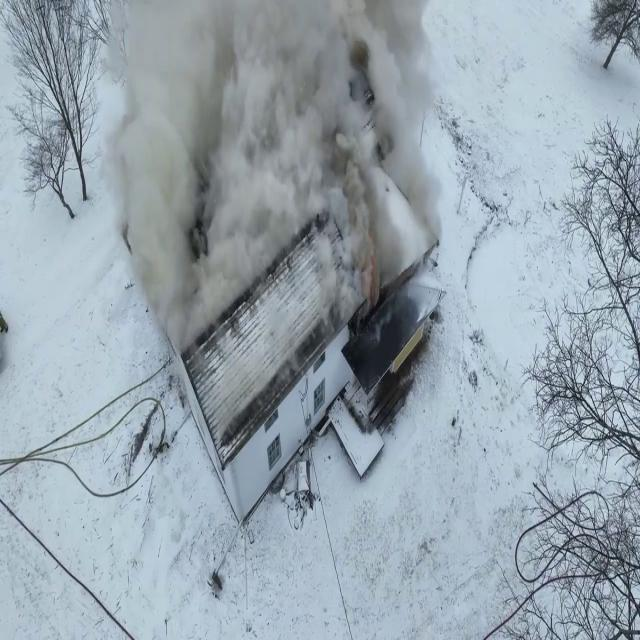Smoke: (90, 0, 466, 348)
